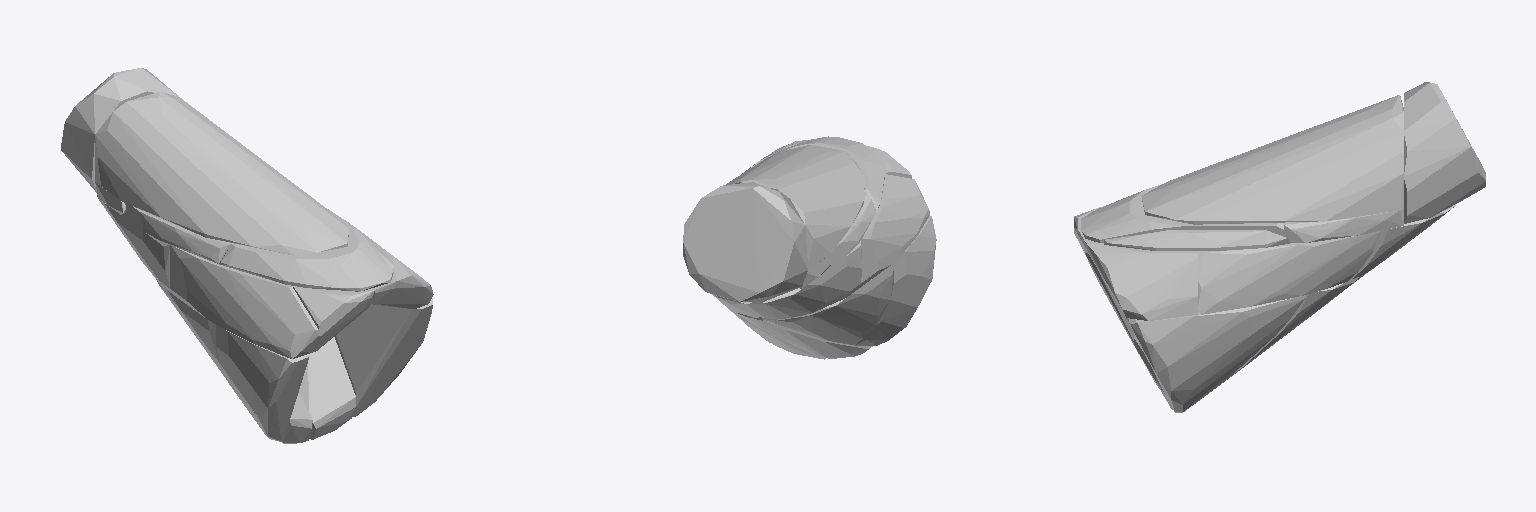
Rendered from cup_0004_origin_vhacd.obj.
3 renders of one model, left to right at view 1: azimuth 30°, elevation 25°; view 2: azimuth 150°, elevation 25°; view 3: azimuth 270°, elevation 25°, orthographic.
Parts seen in each view (by area): view 1: Shape_IndexedFaceSet.001, Shape_IndexedFaceSet.010, Shape_IndexedFaceSet.004, Shape_IndexedFaceSet.015, Shape_IndexedFaceSet.008, Shape_IndexedFaceSet, Shape_IndexedFaceSet.003, Shape_IndexedFaceSet.011, Shape_IndexedFaceSet.017, Shape_IndexedFaceSet.005, Shape_IndexedFaceSet.012, Shape_IndexedFaceSet.009 (+1 smaller); view 2: Shape_IndexedFaceSet, Shape_IndexedFaceSet.001, Shape_IndexedFaceSet.010, Shape_IndexedFaceSet.009, Shape_IndexedFaceSet.008, Shape_IndexedFaceSet.012, Shape_IndexedFaceSet.015, Shape_IndexedFaceSet.002, Shape_IndexedFaceSet.017, Shape_IndexedFaceSet.003; view 3: Shape_IndexedFaceSet.001, Shape_IndexedFaceSet.004, Shape_IndexedFaceSet.006, Shape_IndexedFaceSet, Shape_IndexedFaceSet.005, Shape_IndexedFaceSet.007, Shape_IndexedFaceSet.015, Shape_IndexedFaceSet.016, Shape_IndexedFaceSet.013, Shape_IndexedFaceSet.003, Shape_IndexedFaceSet.008, Shape_IndexedFaceSet.018.
Boxes of the visible parts, x1=… form: Shape_IndexedFaceSet.001: x1=95, y1=92, x2=348, y2=255; Shape_IndexedFaceSet.010: x1=170, y1=245, x2=318, y2=358; Shape_IndexedFaceSet.004: x1=334, y1=298, x2=432, y2=416; Shape_IndexedFaceSet.015: x1=219, y1=222, x2=392, y2=291; Shape_IndexedFaceSet.008: x1=216, y1=325, x2=309, y2=442; Shape_IndexedFaceSet: x1=61, y1=68, x2=181, y2=192; Shape_IndexedFaceSet.003: x1=299, y1=337, x2=355, y2=439; Shape_IndexedFaceSet.011: x1=292, y1=286, x2=374, y2=351; Shape_IndexedFaceSet.017: x1=122, y1=203, x2=233, y2=263; Shape_IndexedFaceSet.005: x1=372, y1=248, x2=433, y2=308; Shape_IndexedFaceSet.012: x1=97, y1=194, x2=172, y2=293; Shape_IndexedFaceSet.009: x1=156, y1=279, x2=227, y2=380; Shape_IndexedFaceSet: x1=683, y1=182, x2=807, y2=302; Shape_IndexedFaceSet.001: x1=726, y1=145, x2=864, y2=269; Shape_IndexedFaceSet.010: x1=858, y1=174, x2=929, y2=288; Shape_IndexedFaceSet.009: x1=762, y1=263, x2=893, y2=344; Shape_IndexedFaceSet.008: x1=852, y1=216, x2=936, y2=345; Shape_IndexedFaceSet.012: x1=720, y1=241, x2=861, y2=318; Shape_IndexedFaceSet.015: x1=769, y1=136, x2=884, y2=211; Shape_IndexedFaceSet.002: x1=734, y1=311, x2=872, y2=358; Shape_IndexedFaceSet.017: x1=825, y1=192, x2=875, y2=271; Shape_IndexedFaceSet.003: x1=723, y1=304, x2=825, y2=359; Shape_IndexedFaceSet.001: x1=1141, y1=95, x2=1403, y2=224; Shape_IndexedFaceSet.004: x1=1126, y1=295, x2=1305, y2=412; Shape_IndexedFaceSet.006: x1=1198, y1=231, x2=1380, y2=314; Shape_IndexedFaceSet: x1=1404, y1=82, x2=1485, y2=223; Shape_IndexedFaceSet.005: x1=1078, y1=229, x2=1197, y2=320; Shape_IndexedFaceSet.007: x1=1104, y1=230, x2=1290, y2=250; Shape_IndexedFaceSet.015: x1=1081, y1=184, x2=1208, y2=242; Shape_IndexedFaceSet.016: x1=1284, y1=209, x2=1403, y2=242; Shape_IndexedFaceSet.013: x1=1350, y1=204, x2=1455, y2=279; Shape_IndexedFaceSet.003: x1=1156, y1=275, x2=1362, y2=409; Shape_IndexedFaceSet.008: x1=1082, y1=248, x2=1138, y2=353; Shape_IndexedFaceSet.018: x1=1209, y1=223, x2=1283, y2=236.
Bounding box in the file's own units: 0.0997 × 0.1235 × 0.1637.